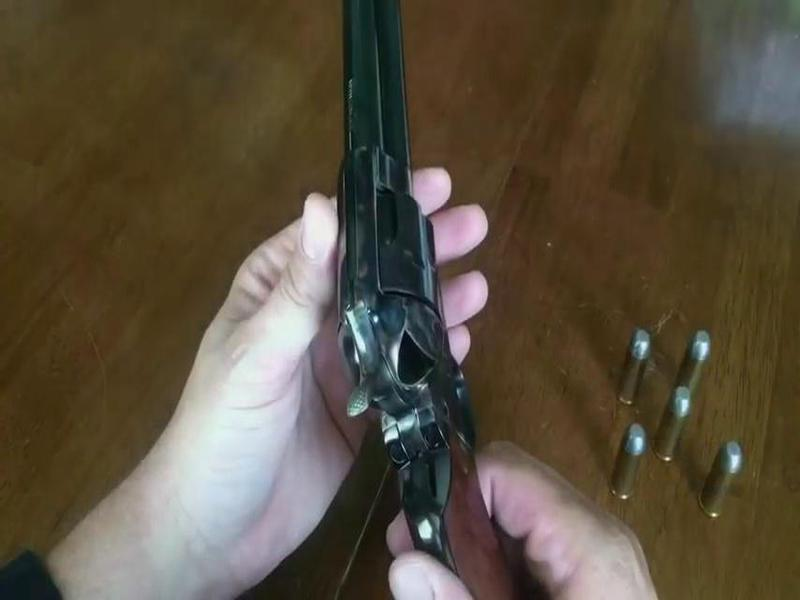Revolver: (295, 11, 563, 600)
